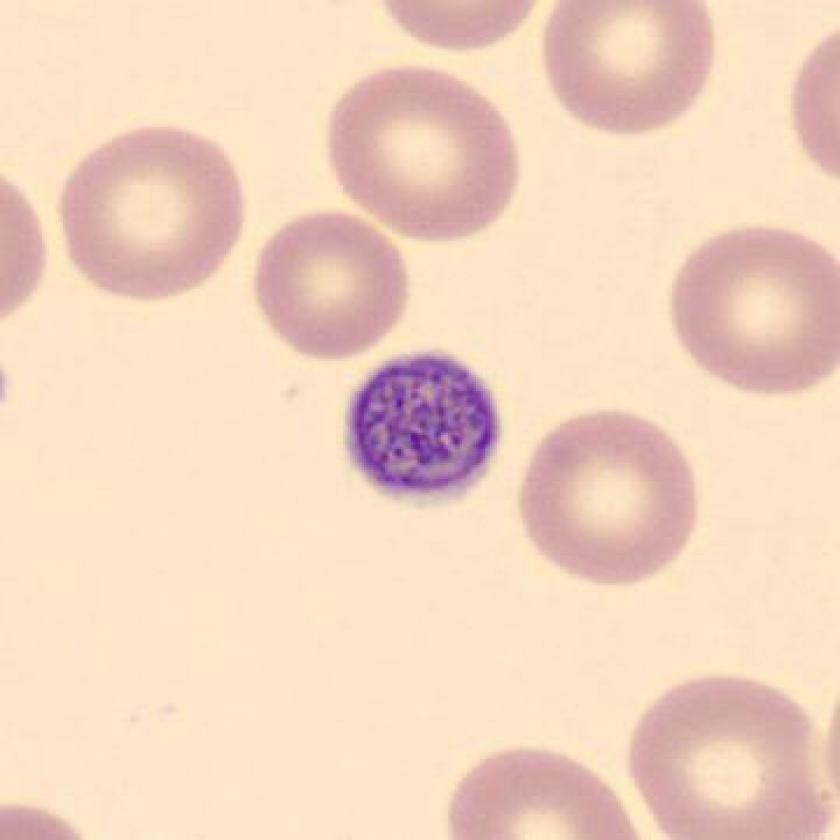platelets: (344, 348, 510, 508)
